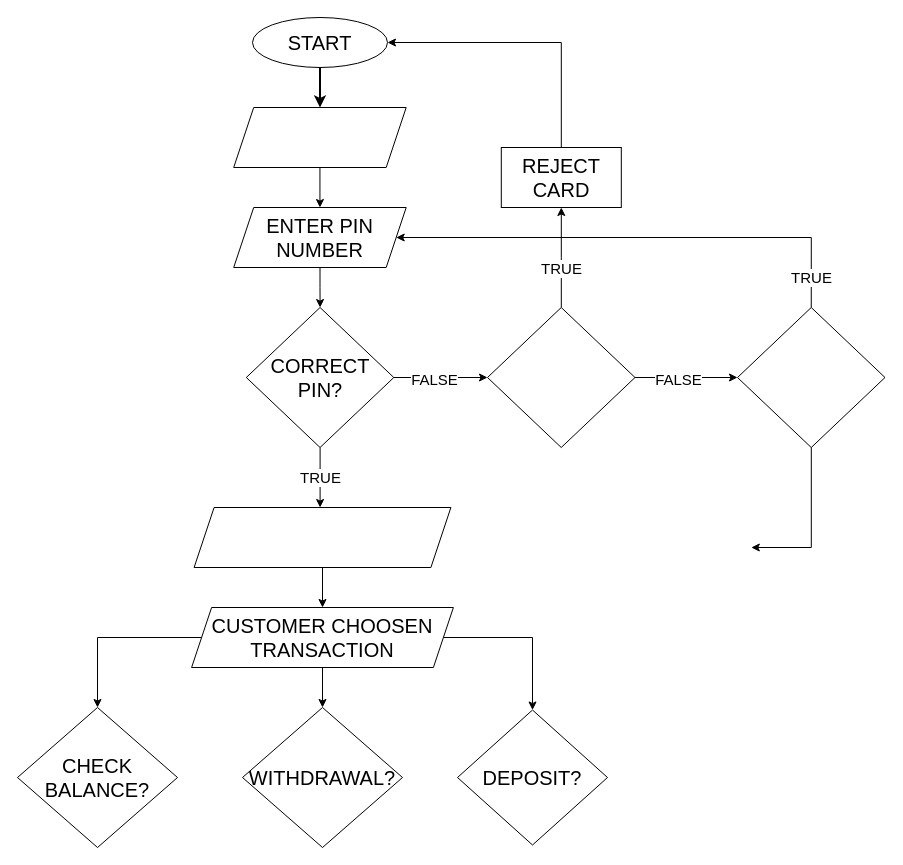
Image size: 903x865. Some labels were removed from this diagram. The shapes that lost their labels are listed below. From the top down, each one's centre as x and y in pixels, then its label:
At point 319,137: "CARD INSERTED".
At point 560,377: "ENTERED 3 TIMES?".
At point 810,377: "RETRY?".
At point 322,537: "DISPLAY TRANSACTIONS".
